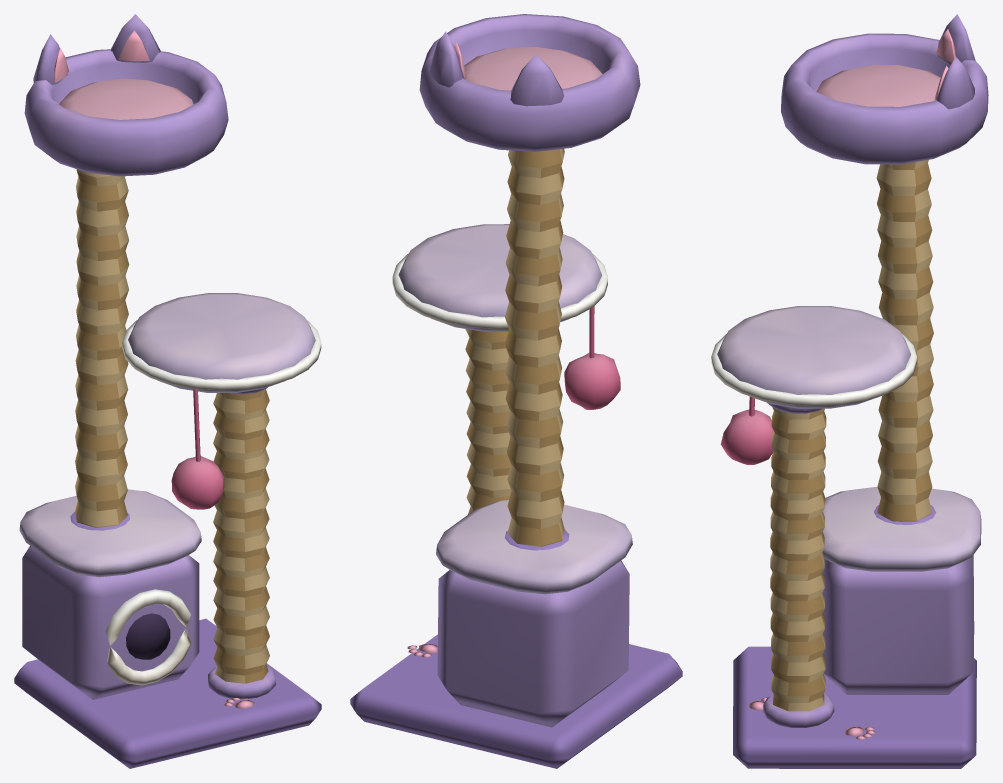
File: furn-catTower.glb
The picture shows the model from 3 angles, left to right: view 1: azimuth 30°, elevation 25°; view 2: azimuth 150°, elevation 25°; view 3: azimuth 270°, elevation 25°; orthographic projection. The views are drawn at different scales.
Visible parts, largest first — view 1: furn; view 2: furn; view 3: furn.
Part boxes in pixels (x1,y1,x2,y2): furn: (14,14,321,768); furn: (350,14,682,768); furn: (711,14,988,768).
Size of the model in its own units: 0.5505 by 1.47 by 0.5462.
